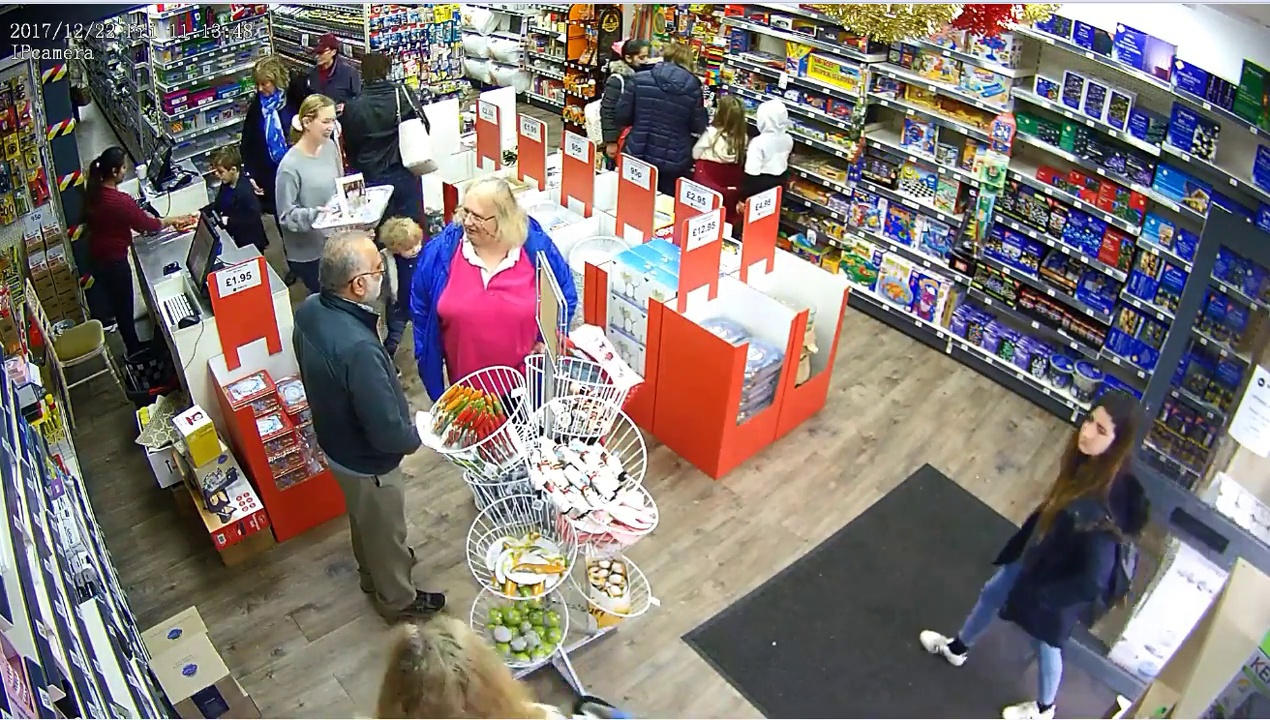face: (1066, 410, 1129, 458), (461, 200, 503, 250), (304, 104, 336, 149)
